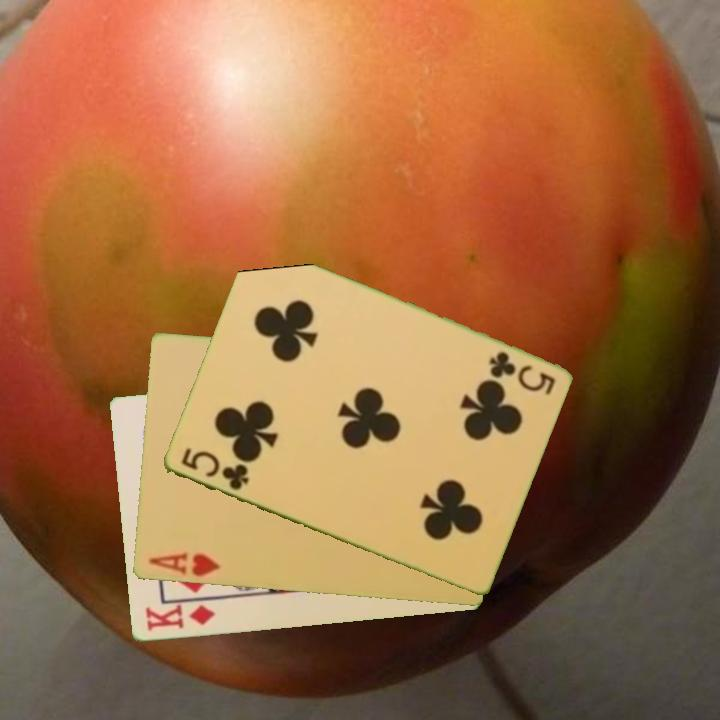5c: (177, 444, 252, 494), (484, 348, 558, 398)
Ah: (144, 548, 223, 580)
Kd: (141, 601, 217, 635)
